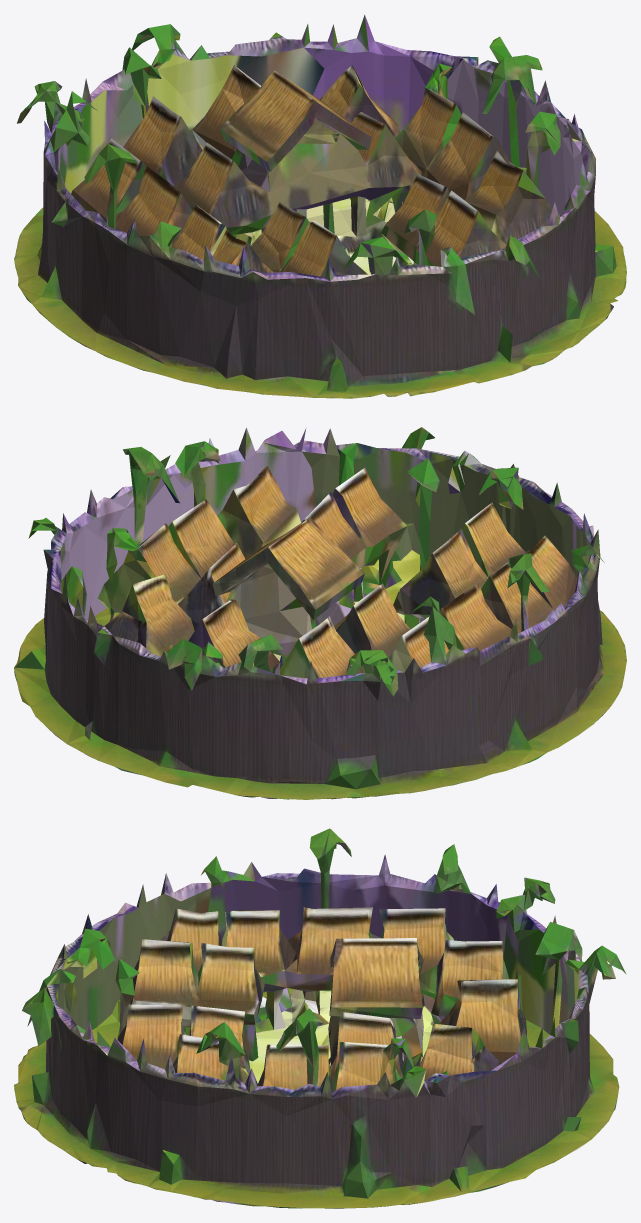
The model's file is palmares_centro.glb.
3 renders of one model, top to bottom at view 1: azimuth 30°, elevation 25°; view 2: azimuth 150°, elevation 25°; view 3: azimuth 270°, elevation 25°, orthographic. The views are drawn at different scales.
Parts seen in each view (by area): view 1: geometry_0; view 2: geometry_0; view 3: geometry_0.
Part boxes in pixels (x1,y1,x2,y2): geometry_0: [14, 14, 626, 398]; geometry_0: [14, 427, 626, 799]; geometry_0: [14, 828, 626, 1208].
Bounding box in the file's own units: 3.2 × 0.9982 × 3.4.
Materials: 1 (1 with a texture image).
